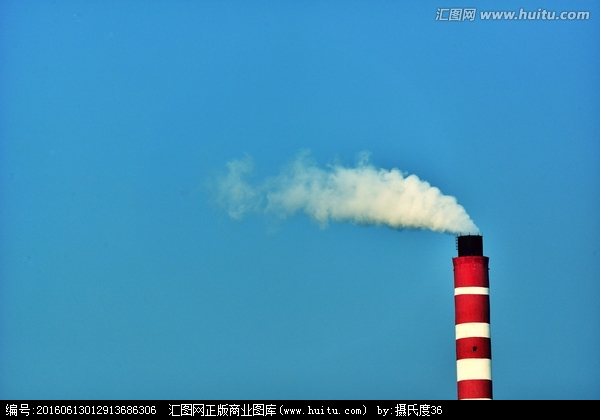dust: (209, 142, 499, 256)
